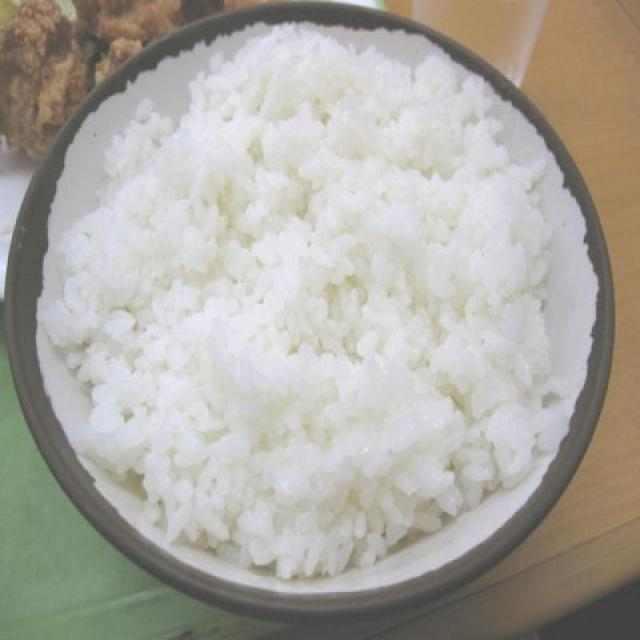rice: (45, 21, 554, 586)
